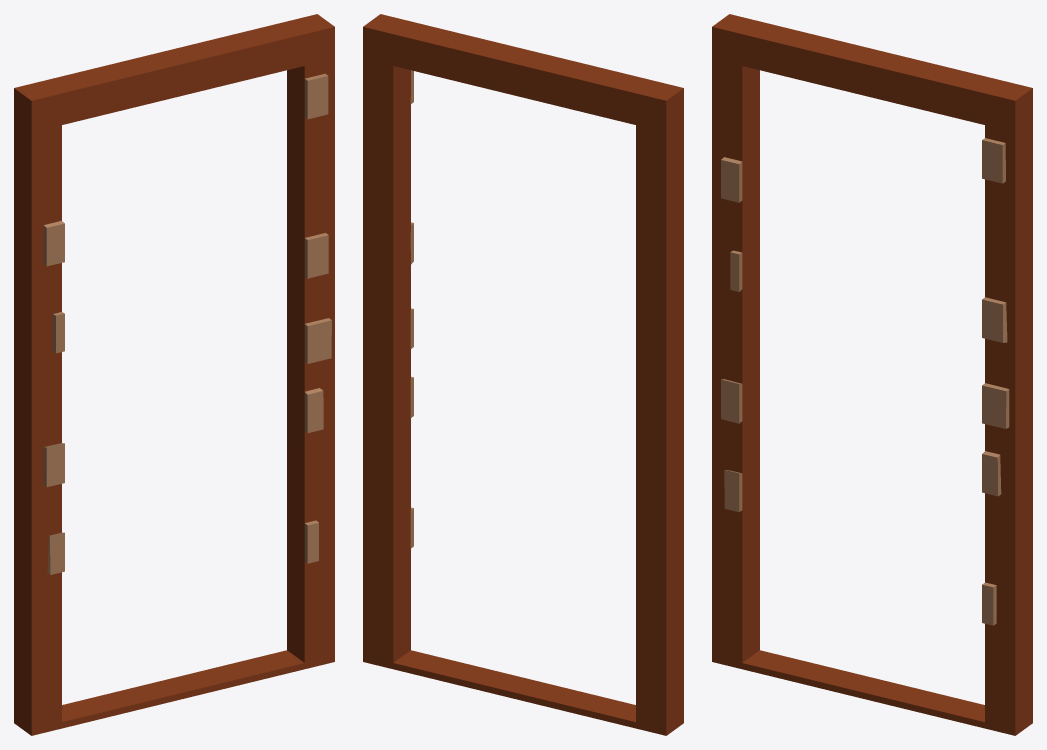
File: BrickV2Doorframe.fbx
3 views of the same model, side by side, from view 1: azimuth 30°, elevation 25°; view 2: azimuth 150°, elevation 25°; view 3: azimuth 330°, elevation 25° (orthographic).
Parts seen in each view (by area): view 1: BrickV2Doorframe; view 2: BrickV2Doorframe; view 3: BrickV2Doorframe.
Part boxes in pixels (left/top/right/bottom): BrickV2Doorframe: left=14, top=14, right=334, bottom=735; BrickV2Doorframe: left=363, top=14, right=683, bottom=735; BrickV2Doorframe: left=712, top=14, right=1032, bottom=735.
Bounding box in the file's own units: 100 × 200 × 11.75.
